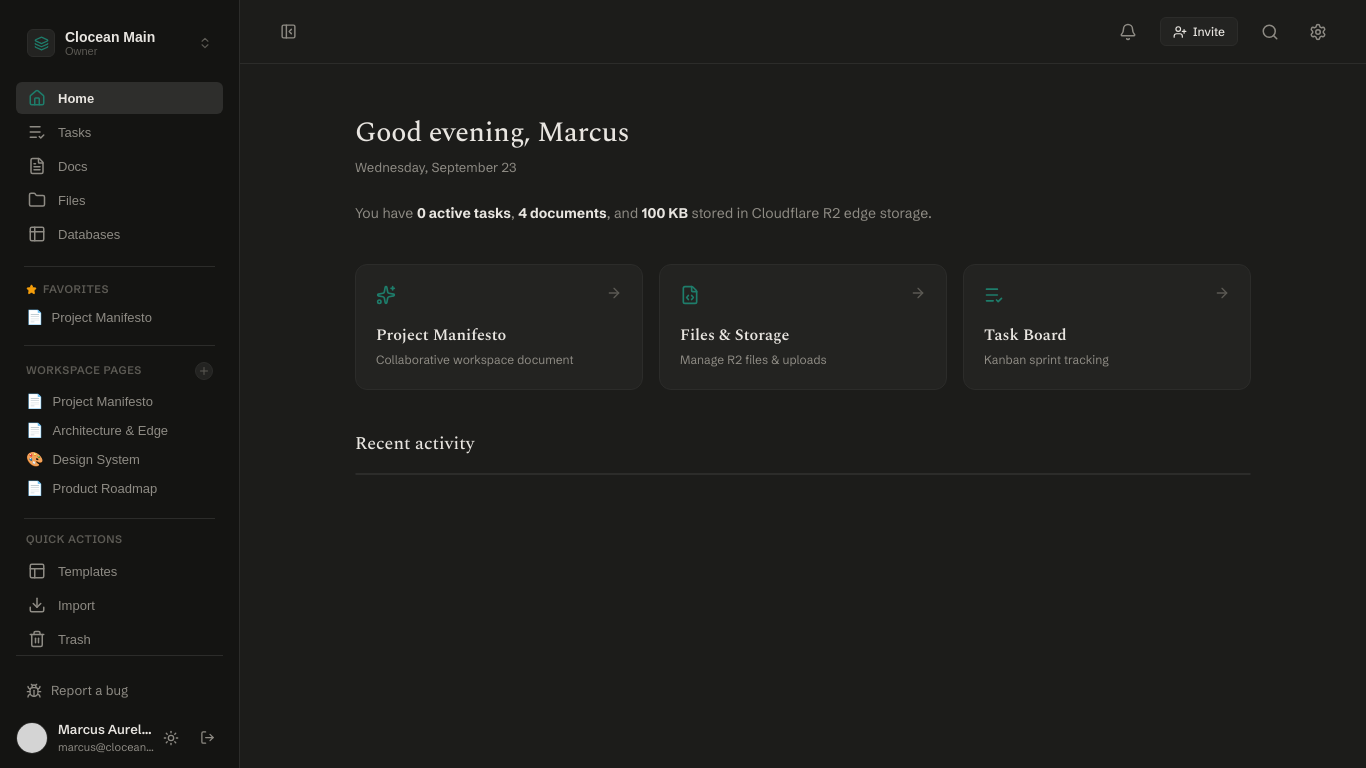
Clocean - Workspace Navigation & Embedded Database Suite › 4. Collapsible right Snaps panel displays UI snapshot cards, attachments, and discussion tabs
// Navigate to document
Click the button "📄 Project Manifesto" below "Favorites" at (120, 318), box [16,304,223,331]
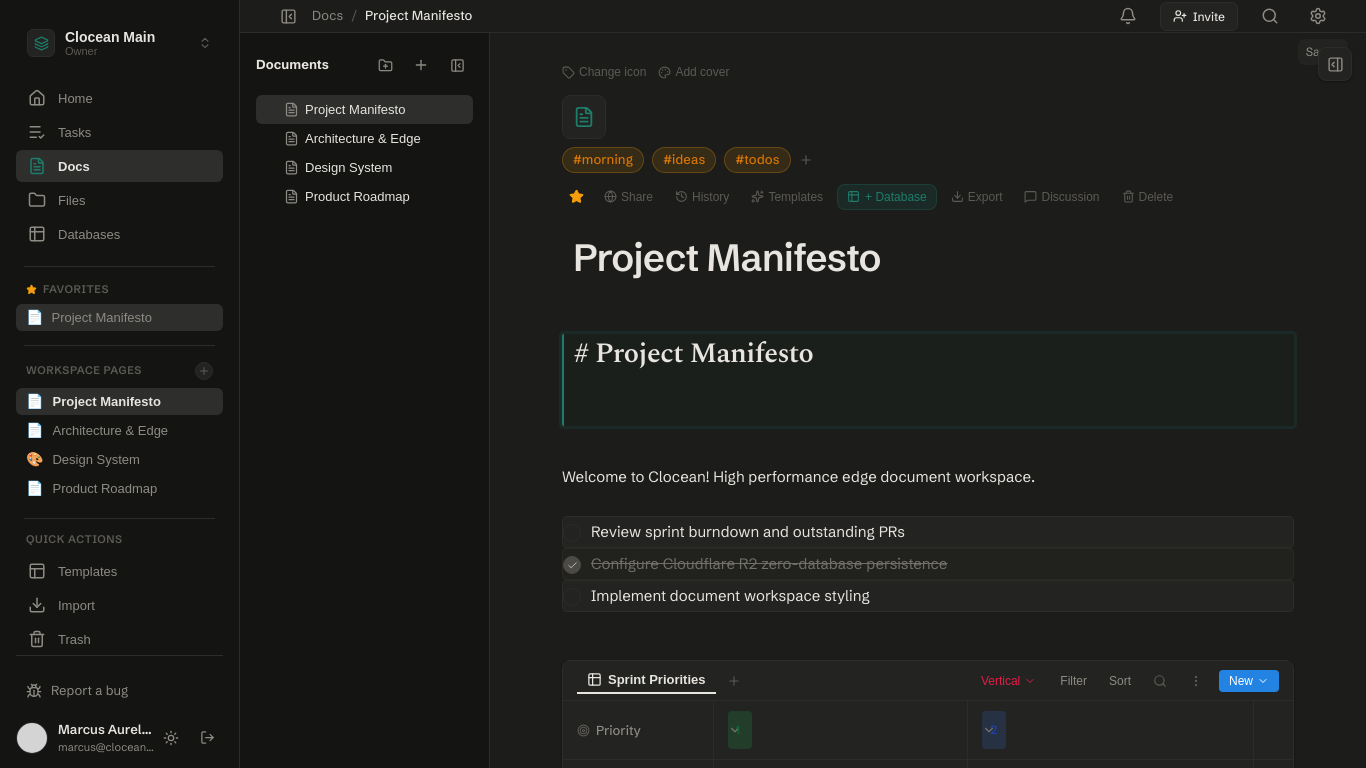
// Open right snaps panel
Click the button named "Show files and discussion" at (1335, 64), box [1318,47,1352,81]
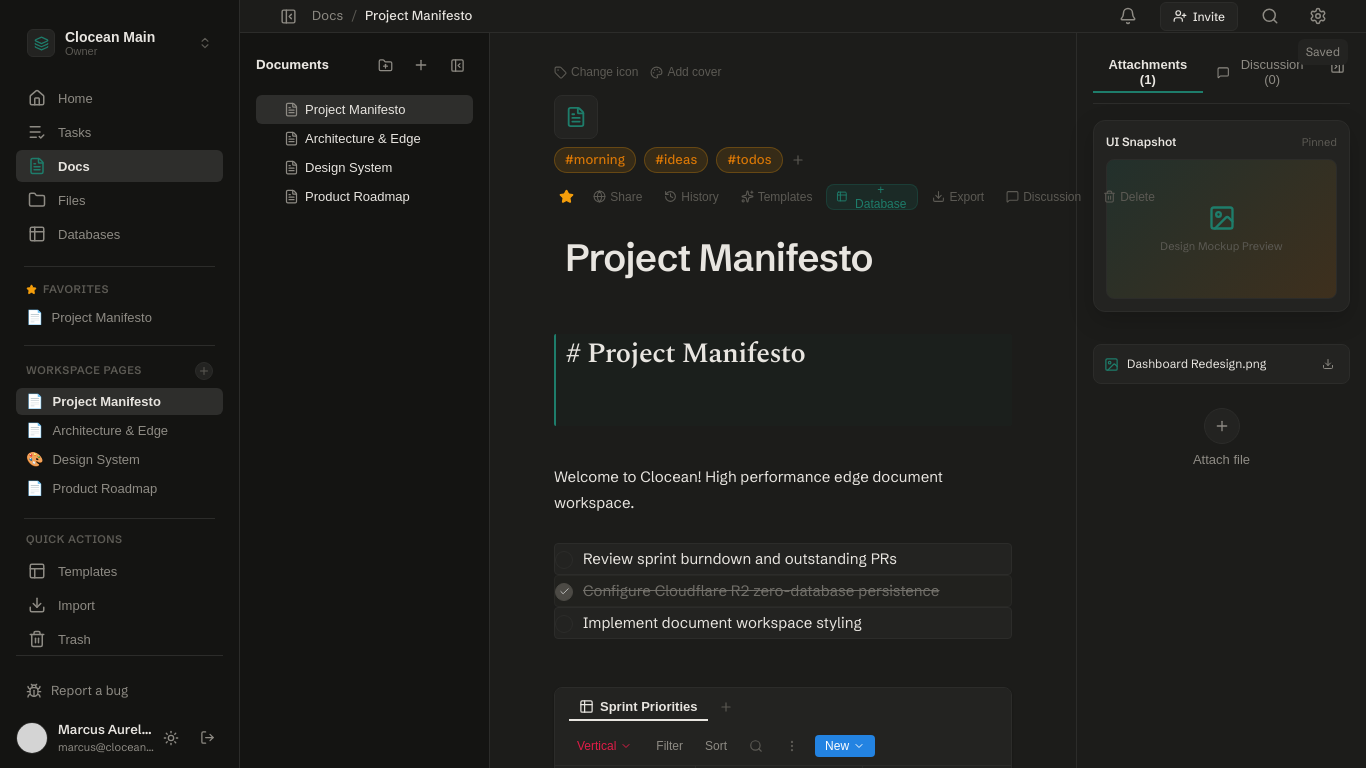
Check: the element with class "editor-right-panel" is shown, box [1076,33,1365,767]
Check: the text "UI Snapshot" is shown, box [1106,134,1176,149]
Check: the text "Design Mockup Preview" is shown, box [1160,239,1282,253]
// Switch to Discussion tab
Click the button "Discussion (0)" at (1265, 73), box [1209,53,1320,93]
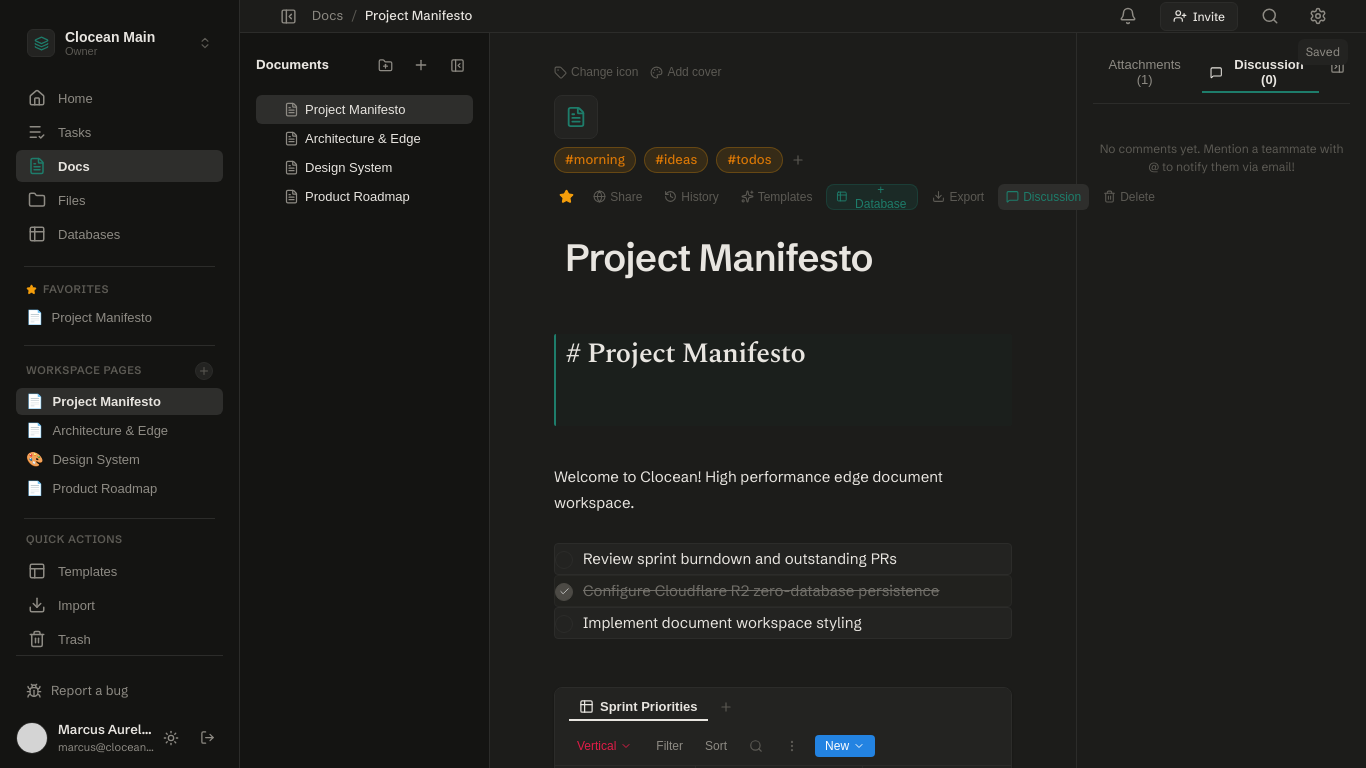
Check: the button "Discussion" is shown, box [998,184,1089,210]
// Collapse right panel
Click the button named "Hide files and discussion" at (1338, 66), box [1325,53,1350,79]
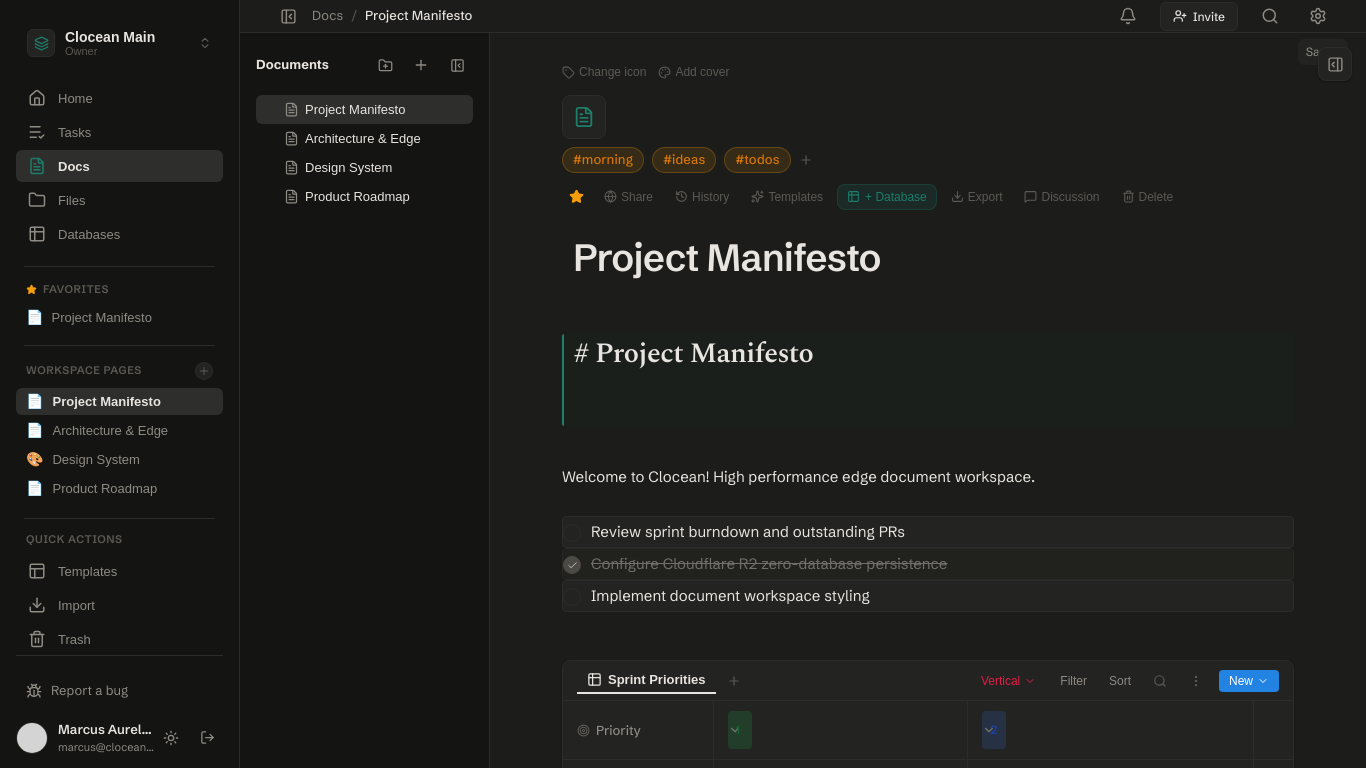
Check: the button named "Show files and discussion" is shown, box [1318,47,1352,81]
